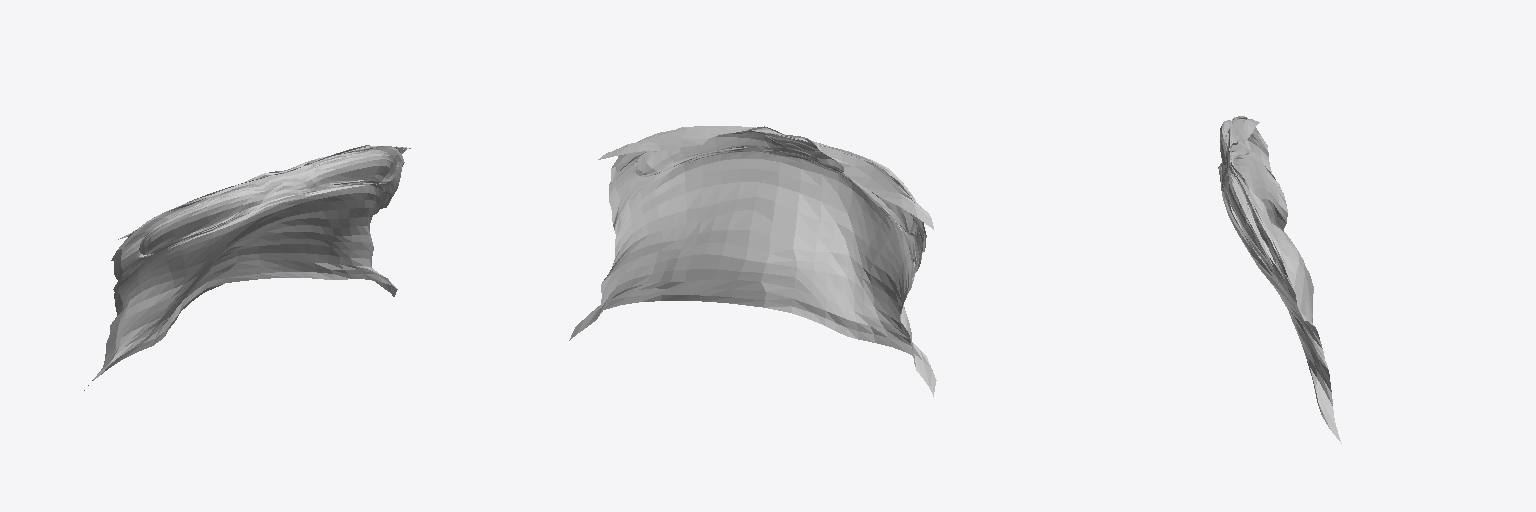
File: deformed_alpha_3_ModelRot.obj
3 renders of one model, left to right at view 1: azimuth 30°, elevation 25°; view 2: azimuth 150°, elevation 25°; view 3: azimuth 270°, elevation 25°, orthographic.
Bounding box in the file's own units: 0.6449 × 0.384 × 0.2038.